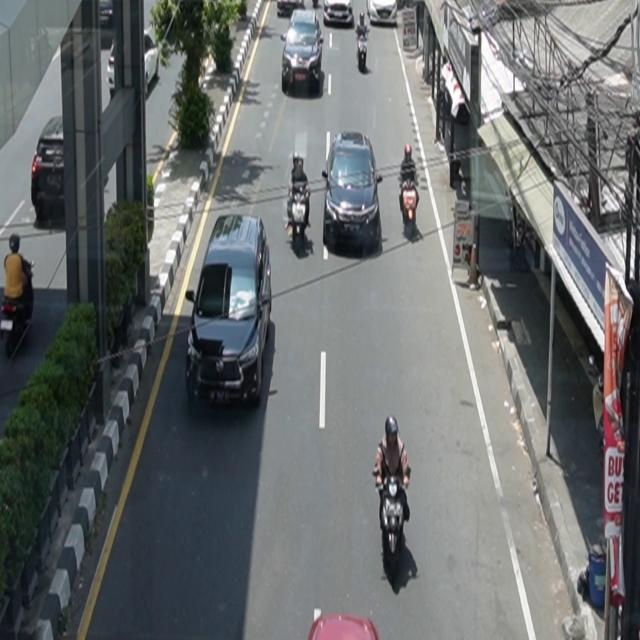car: (186, 214, 273, 409), (323, 131, 383, 253), (281, 8, 325, 94), (107, 33, 161, 98), (324, 1, 355, 28), (367, 1, 398, 26)
